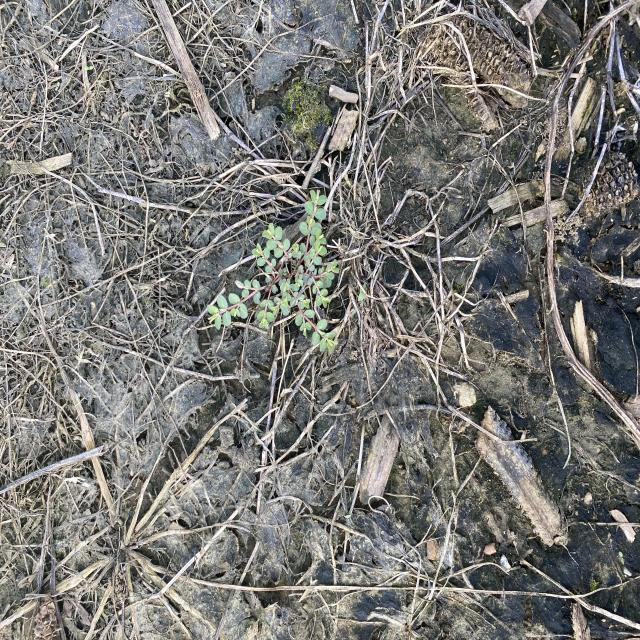SpottedSpurge: (206, 188, 340, 356)
